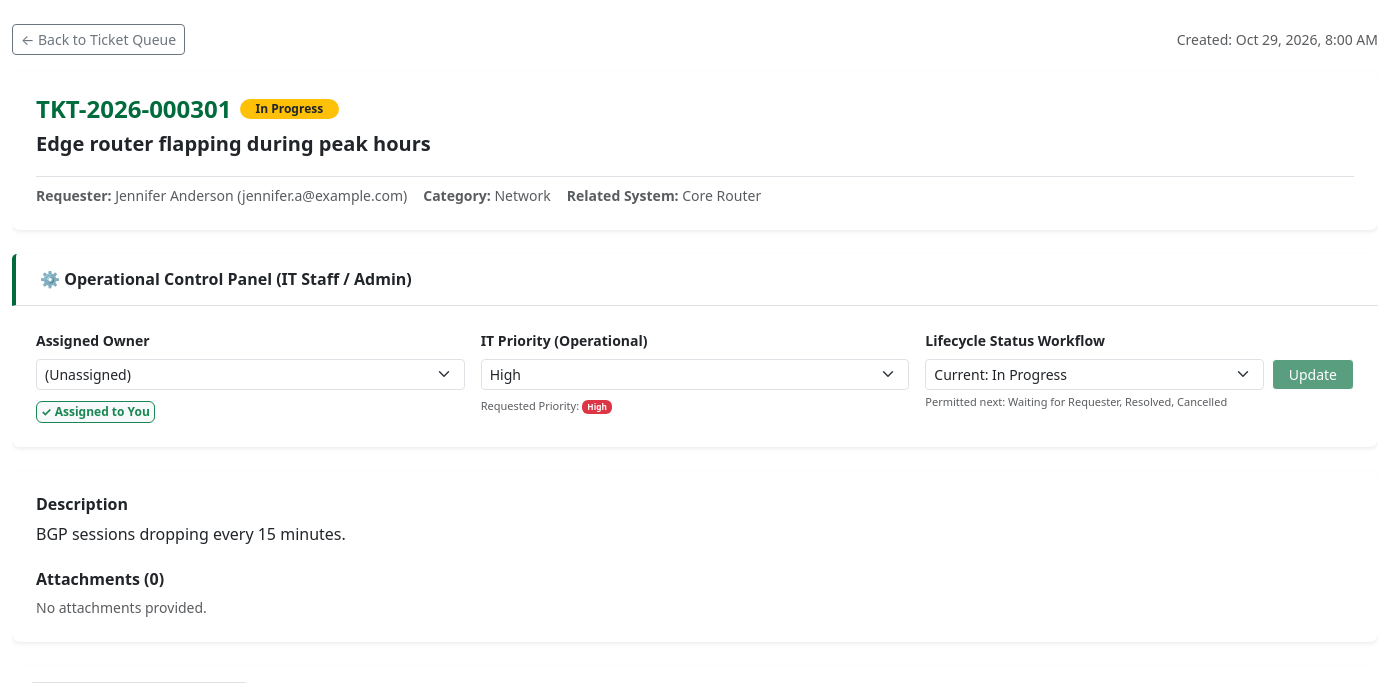
Test: Sprint 4 Issue 4: Ticket Workflow Hardening & Resolution Gate (FR-07, BR-10..13, AC-08) › displays Resolution Gate warning banner when advancing to Resolved with 0 Actions Taken (AC-08, BR-11)
# Select "Advance to: Resolved"
Select "Advance to: Resolved" in the dropdown with test id "staff-status-select" at (1094, 374), box [925, 359, 1264, 390]
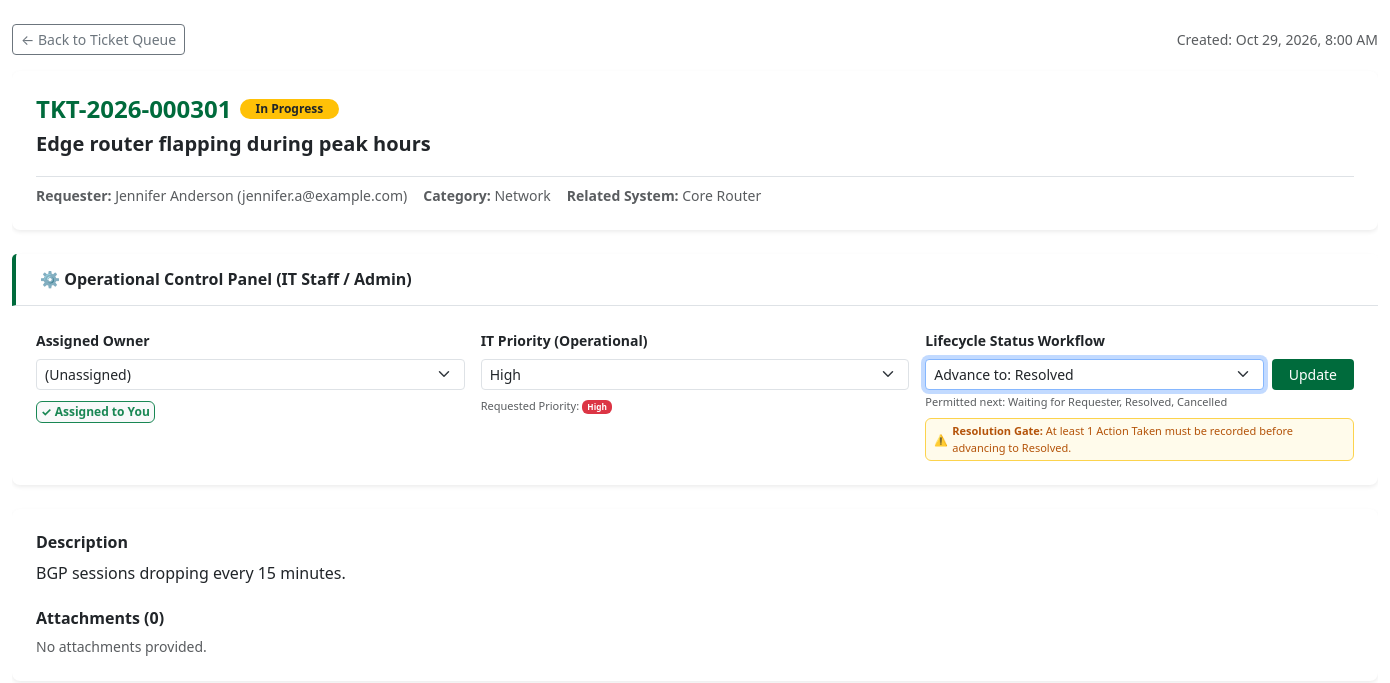
Expected: the element with test id "resolution-gate-warning" shows "Resolution Gate: At least 1 Action Taken must be recorded", [925, 418, 1354, 462]
